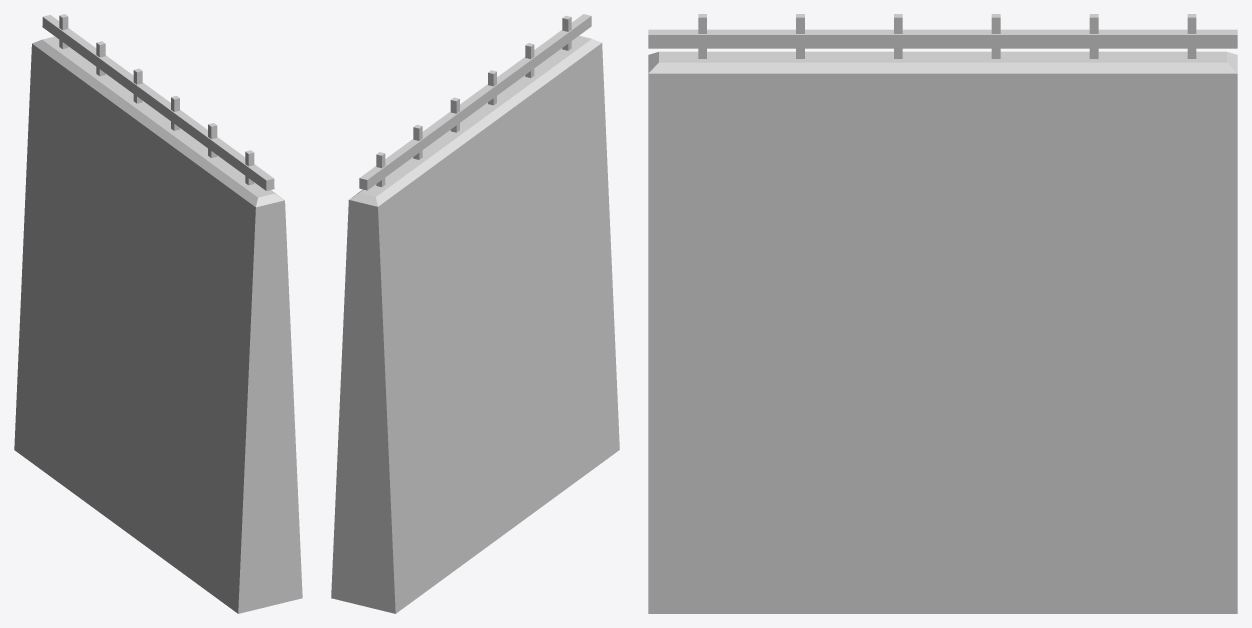
Rendered from Fence_01.fbx.
3 views of the same model, side by side, from view 1: azimuth 30°, elevation 25°; view 2: azimuth 150°, elevation 25°; view 3: azimuth 270°, elevation 25° (orthographic). The views are drawn at different scales.
Parts seen in each view (by area): view 1: Fence_01_Body; view 2: Fence_01_Body; view 3: Fence_01_Body.
Boxes of the visible parts, left/top/right/bottom form: Fence_01_Body: left=14, top=14, right=302, bottom=613; Fence_01_Body: left=331, top=14, right=619, bottom=613; Fence_01_Body: left=648, top=14, right=1237, bottom=613.
Size of the model in its own units: 5 by 32.54 by 30.09.
